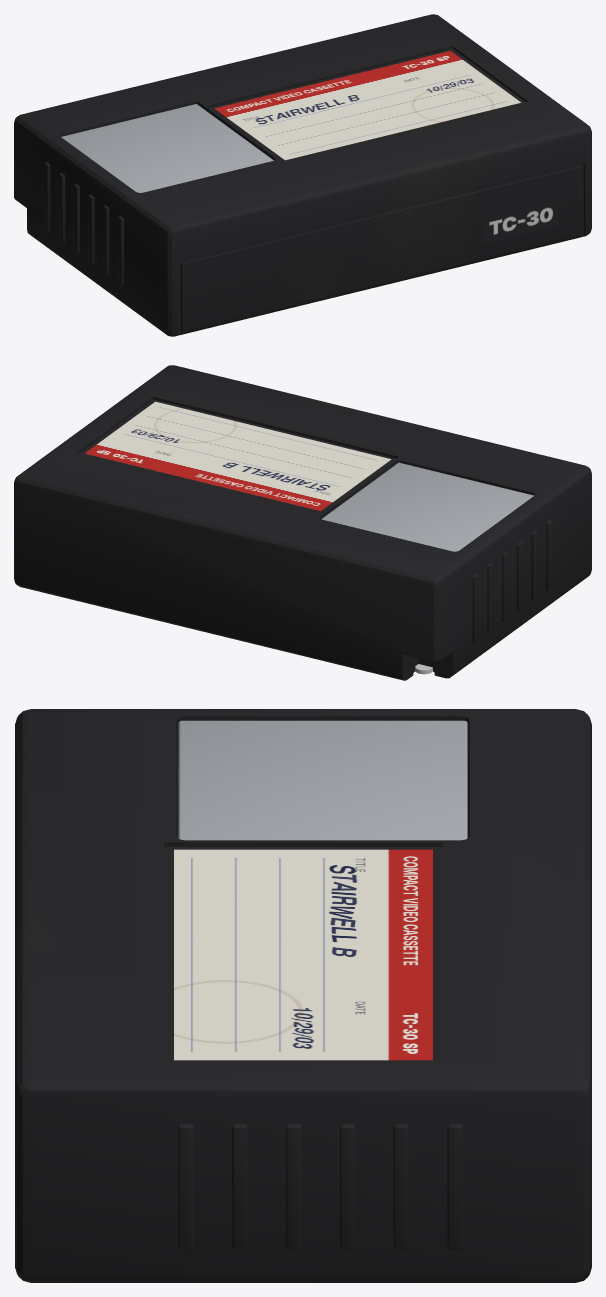
File: Tape.fbx
3 views of the same model, one above another, from view 1: azimuth 30°, elevation 25°; view 2: azimuth 150°, elevation 25°; view 3: azimuth 270°, elevation 25° (orthographic). The views are drawn at different scales.
Parts seen in each view (by area): view 1: Handle, Label, Window; view 2: Handle, Label, Window; view 3: Handle, Label, Window.
Part boxes in pixels (bbox=[...]): Handle: bbox=[14, 14, 591, 336]; Label: bbox=[214, 51, 520, 160]; Window: bbox=[61, 104, 273, 192]; Handle: bbox=[14, 365, 591, 680]; Label: bbox=[85, 401, 391, 510]; Window: bbox=[321, 462, 533, 551]; Handle: bbox=[15, 709, 591, 1282]; Label: bbox=[174, 849, 432, 1060]; Window: bbox=[178, 720, 467, 840].
Bounding box in the file's own units: 0.2718 × 0.0671 × 0.1724.
3 materials, 2 textured.
